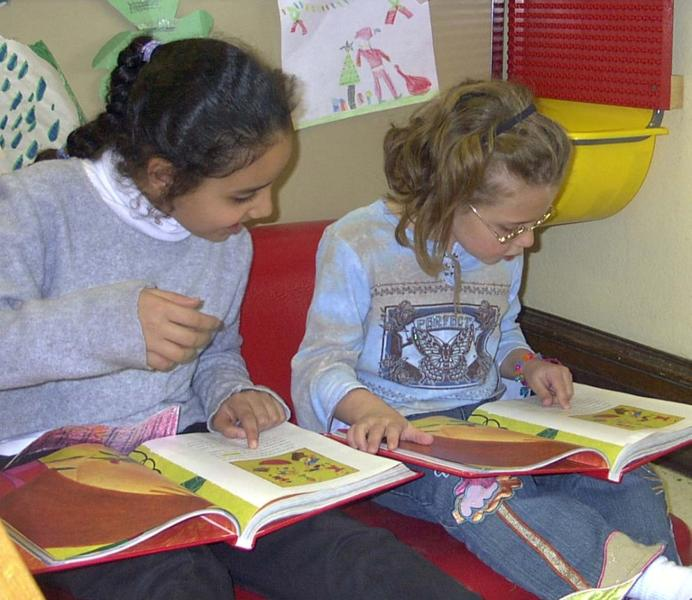person: (290, 79, 692, 600)
